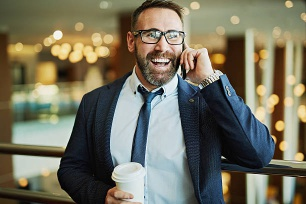male: (133, 5, 187, 87)
